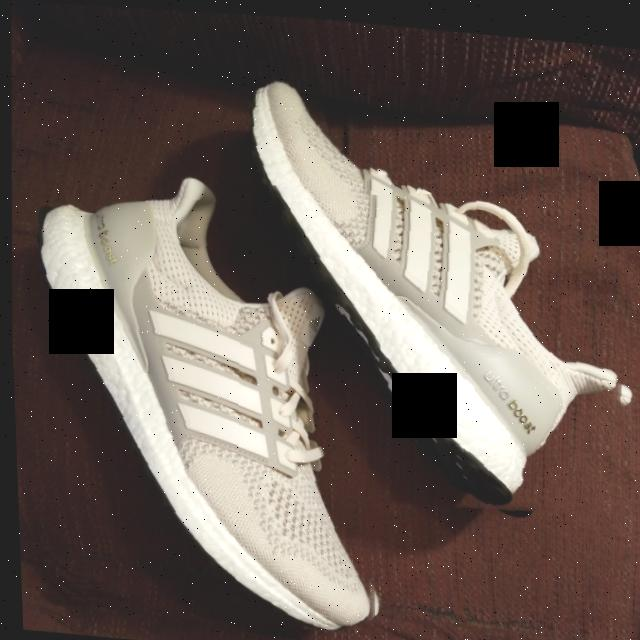shoe: (237, 73, 640, 525), (23, 160, 394, 633)
